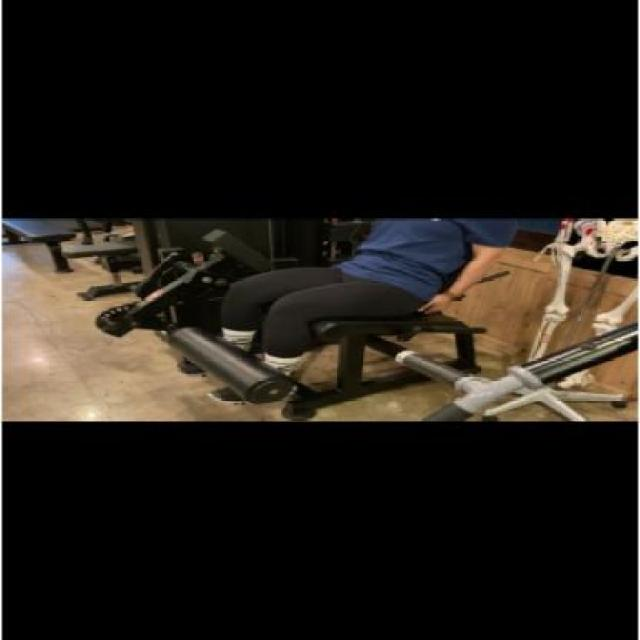leg extension: (86, 214, 632, 426)
